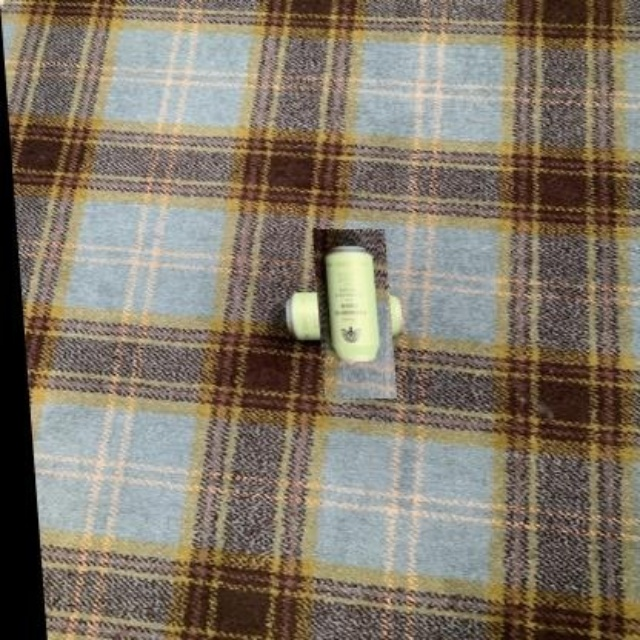trash: (325, 246, 378, 360), (286, 292, 318, 338)
